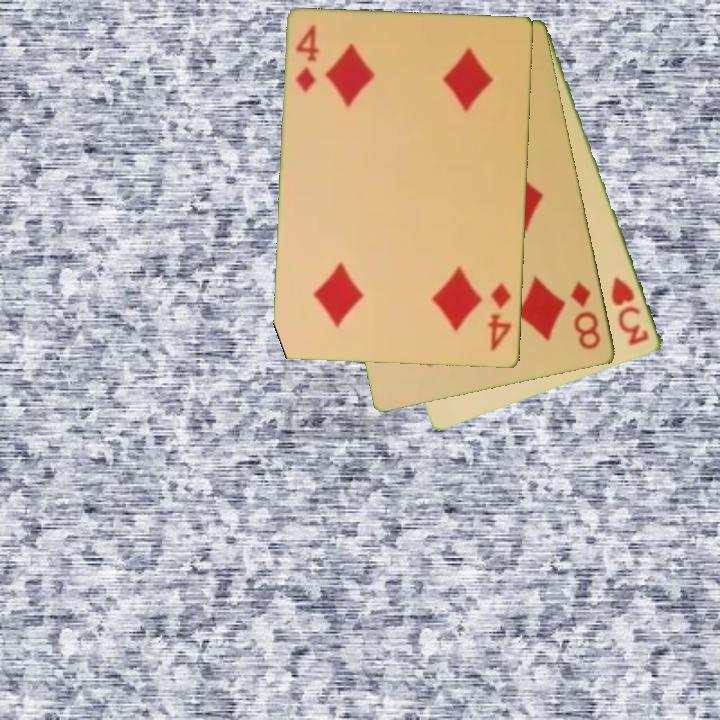3h: (608, 273, 652, 349)
4d: (485, 279, 515, 354), (293, 22, 323, 95)
8d: (567, 277, 604, 353)
